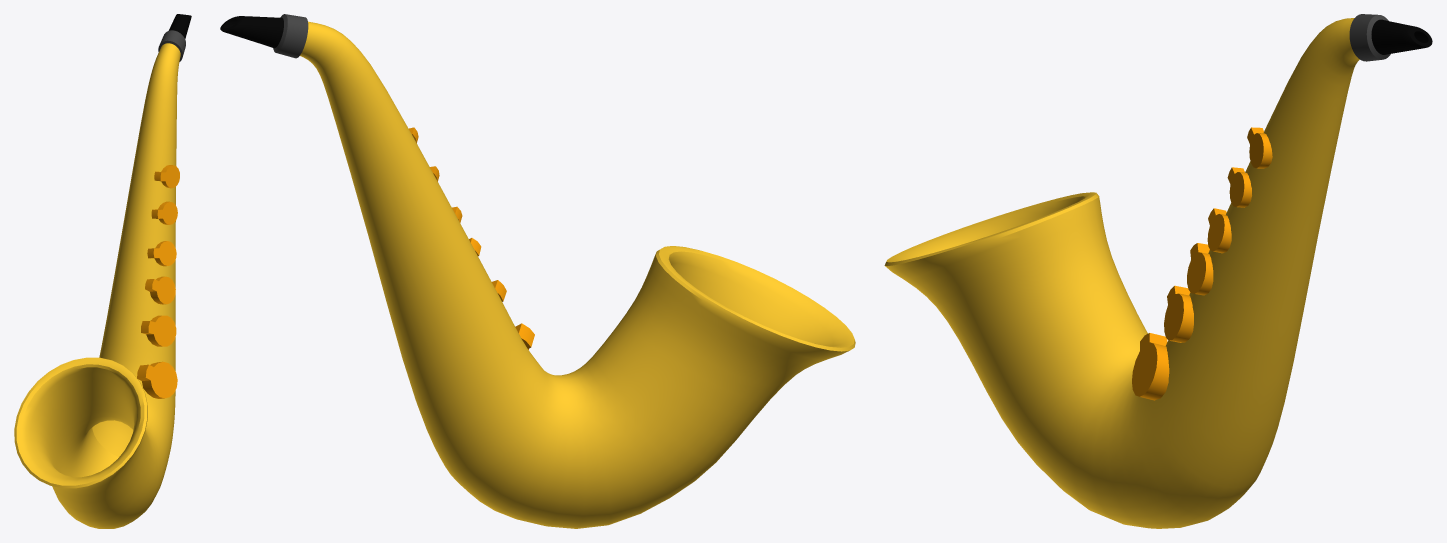
The model's file is saxophone.fbx.
3 renders of one model, left to right at view 1: azimuth 30°, elevation 25°; view 2: azimuth 150°, elevation 25°; view 3: azimuth 270°, elevation 25°, orthographic. The views are drawn at different scales.
Parts seen in each view (by area): view 1: Circle.2550; view 2: Circle.2550; view 3: Circle.2550.
Part boxes in pixels (x1=…): Circle.2550: x1=14, y1=14, x2=191, y2=528; Circle.2550: x1=220, y1=14, x2=855, y2=528; Circle.2550: x1=884, y1=14, x2=1432, y2=528.
Bounding box in the file's own units: 196 × 239 × 196.
Materials: 1 (1 with a texture image).
